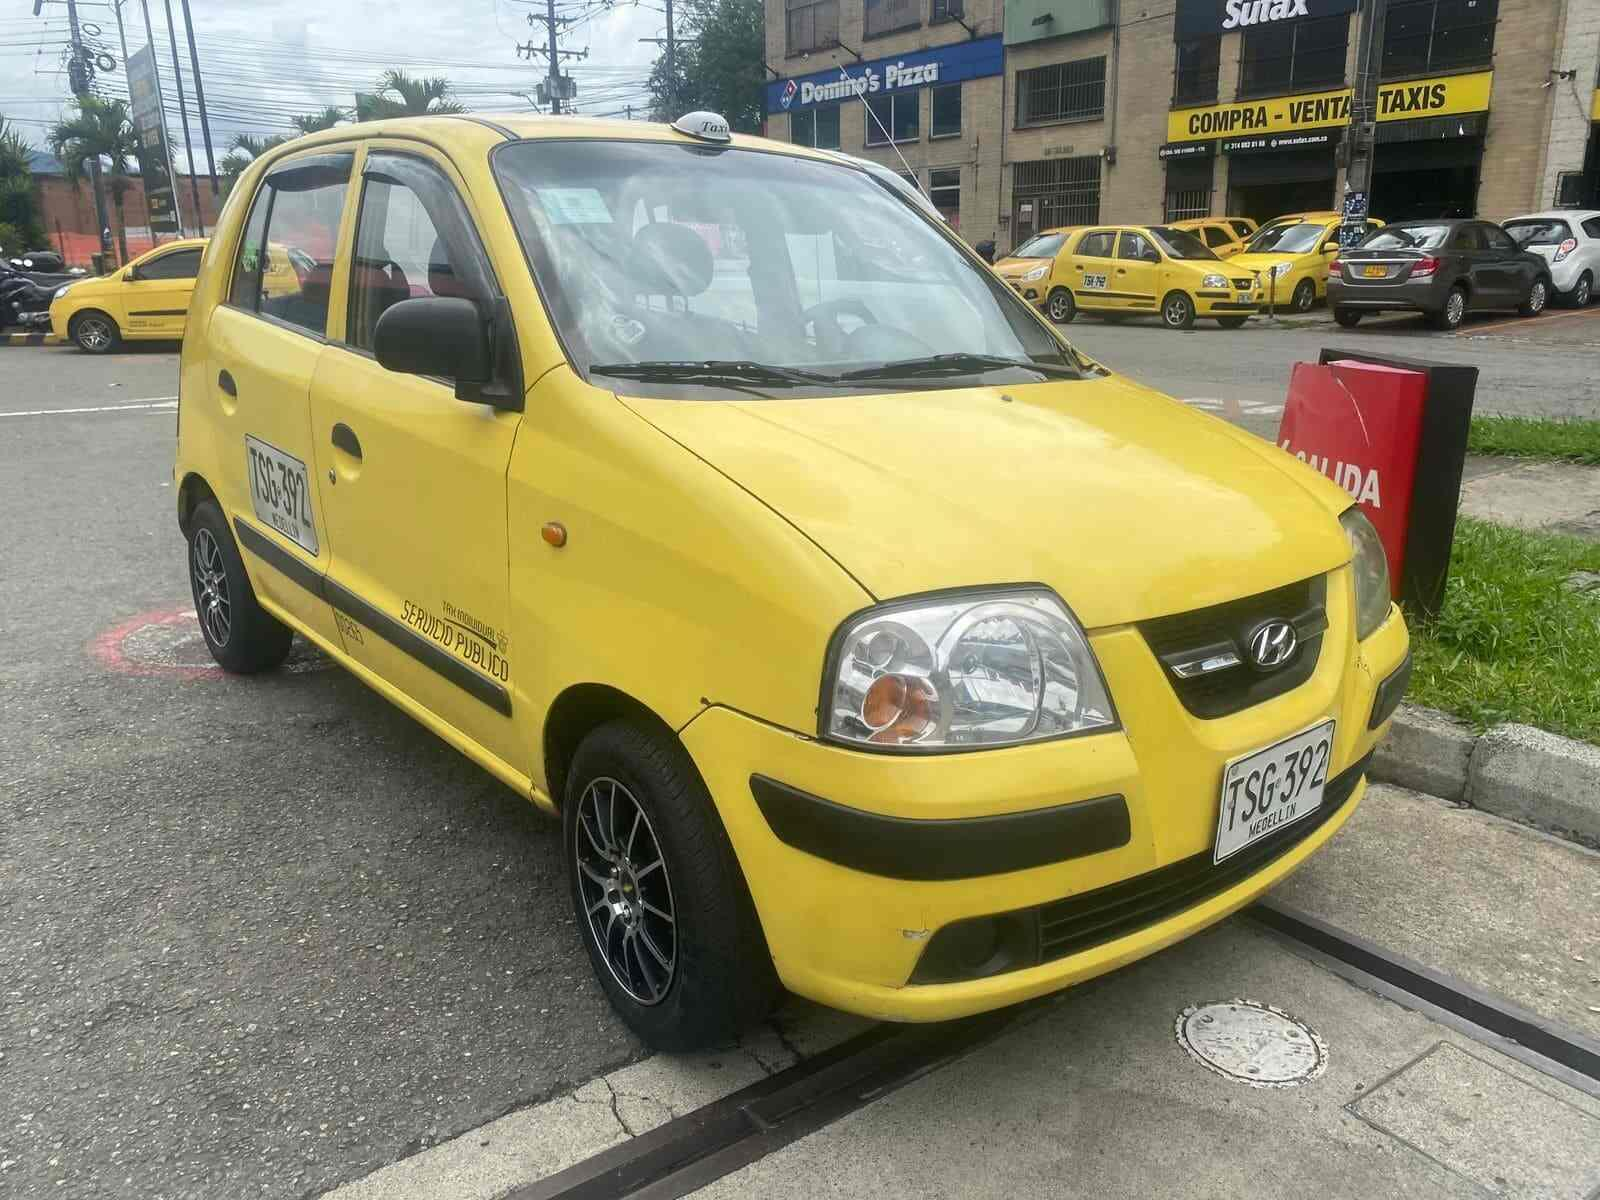taxi: (163, 118, 1390, 1071)
